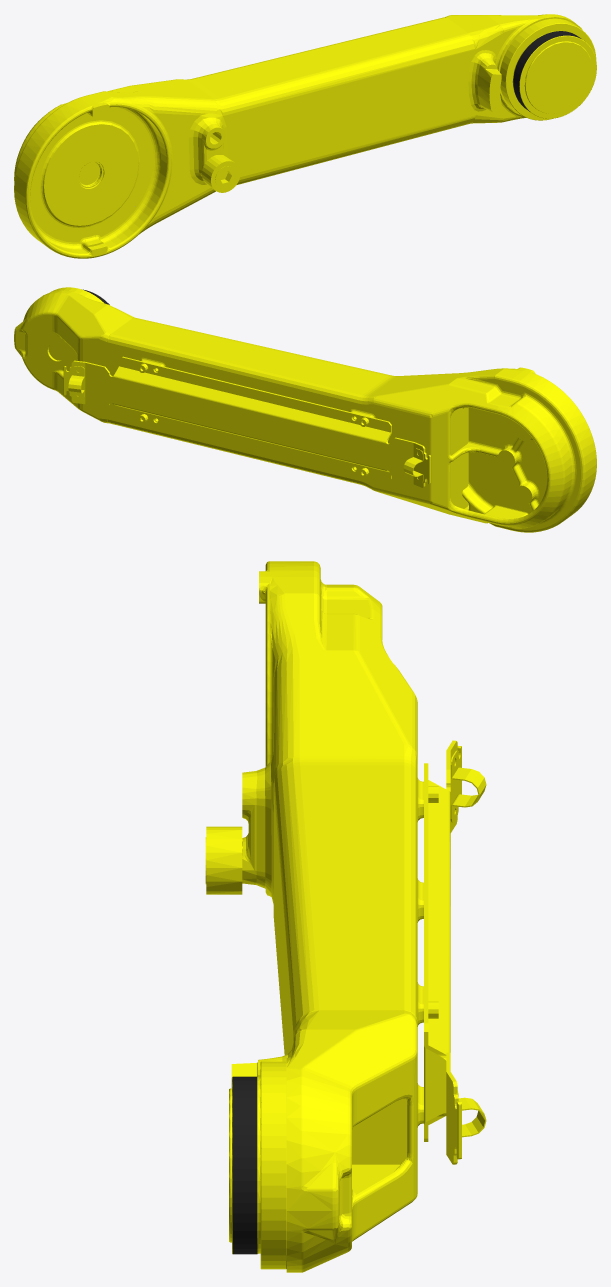
3 views of the same model, one above another, from view 1: azimuth 30°, elevation 25°; view 2: azimuth 150°, elevation 25°; view 3: azimuth 270°, elevation 25° (orthographic). The views are drawn at different scales.
Parts seen in each view (by area): view 1: node; view 2: node; view 3: node.
Part boxes in pixels (bbox=[...]): node: bbox=[14, 14, 596, 258]; node: bbox=[14, 287, 596, 532]; node: bbox=[205, 561, 486, 1272].
Size of the model in its own units: 1000 by 256 by 277.
